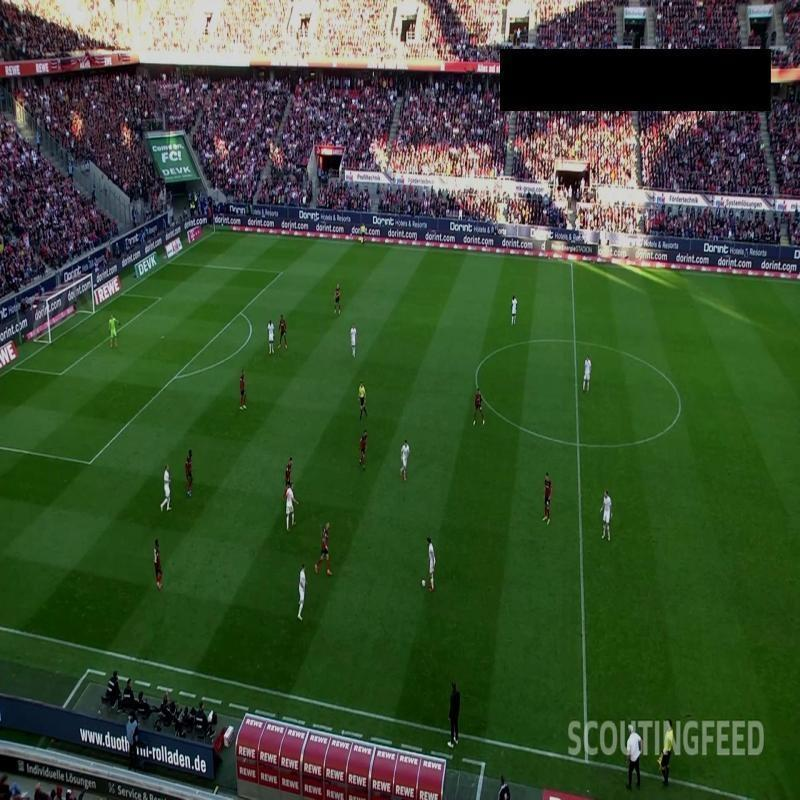1: (208, 226, 222, 240)
10: (234, 306, 247, 320)
11: (168, 370, 182, 384)
12: (83, 456, 97, 470)
13: (564, 254, 578, 268)
14: (568, 333, 582, 347)
15: (570, 435, 585, 450)
16: (576, 752, 594, 772)
2: (162, 256, 176, 270)
3: (114, 286, 128, 300)
4: (6, 359, 20, 373)
7: (154, 290, 168, 304)
8: (54, 367, 68, 381)
9: (275, 265, 289, 279)
c: (468, 368, 482, 382), (674, 395, 687, 408)
